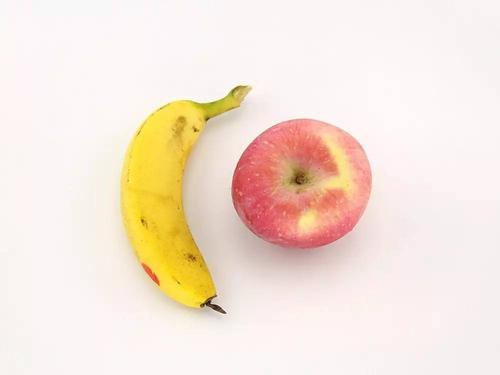Other: (120, 85, 251, 315)
